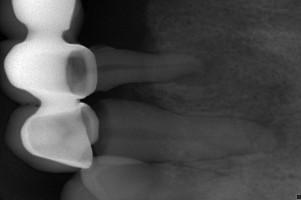Furcation Involvement: (174, 53, 225, 85), (253, 115, 288, 150)
